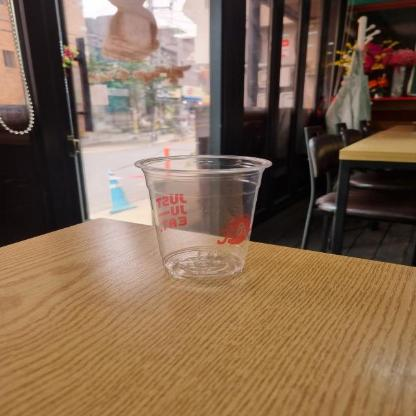Plastic Cup: (132, 150, 280, 286)
